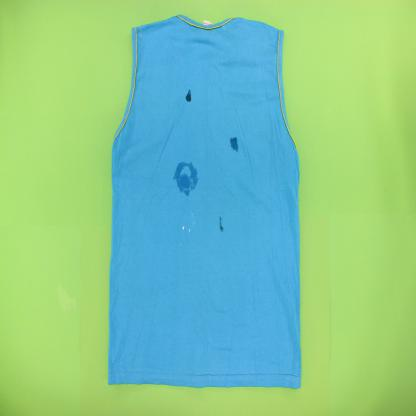stain: (170, 158, 201, 198), (229, 136, 240, 153), (217, 214, 225, 234), (184, 88, 192, 104), (181, 225, 185, 234), (188, 228, 192, 233)
